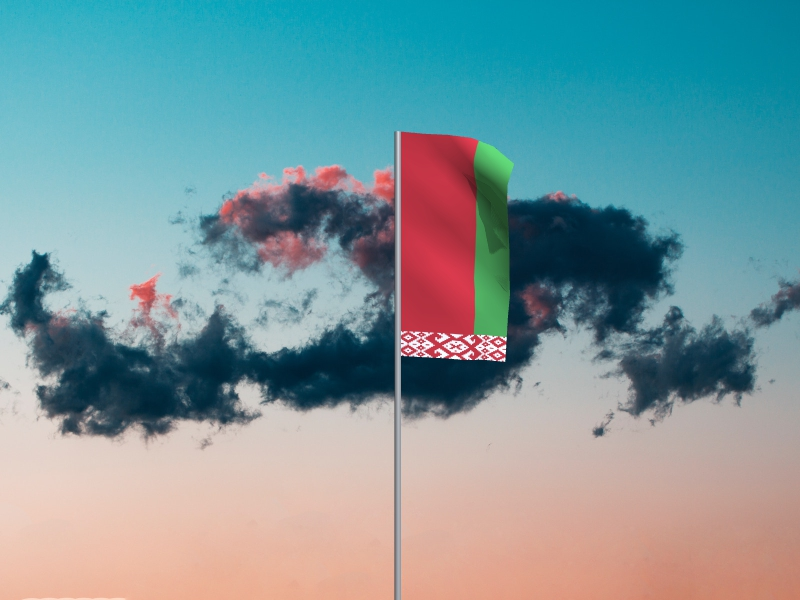by: (402, 133, 517, 364)
